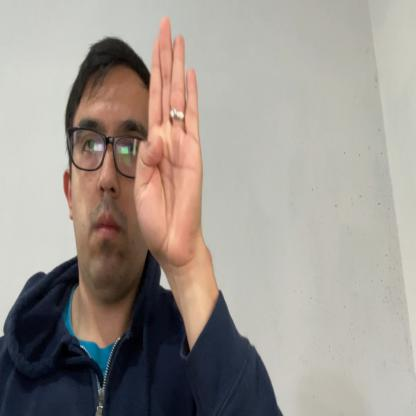B: (135, 17, 203, 264)
